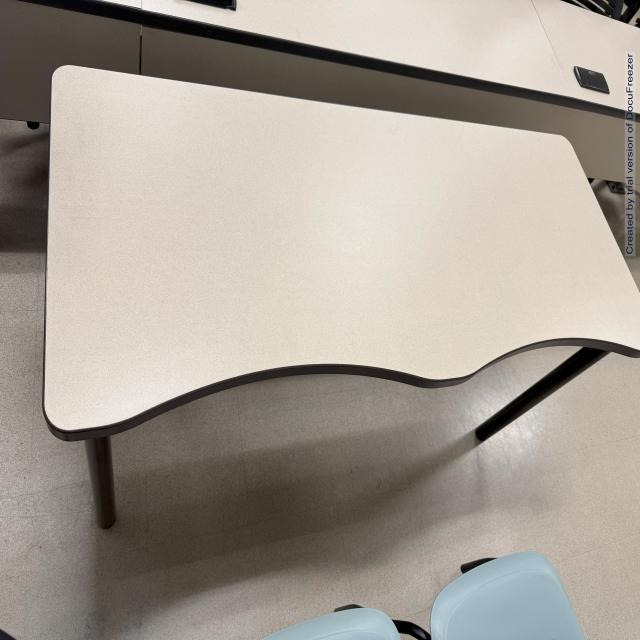Table: (40, 46, 640, 588)
